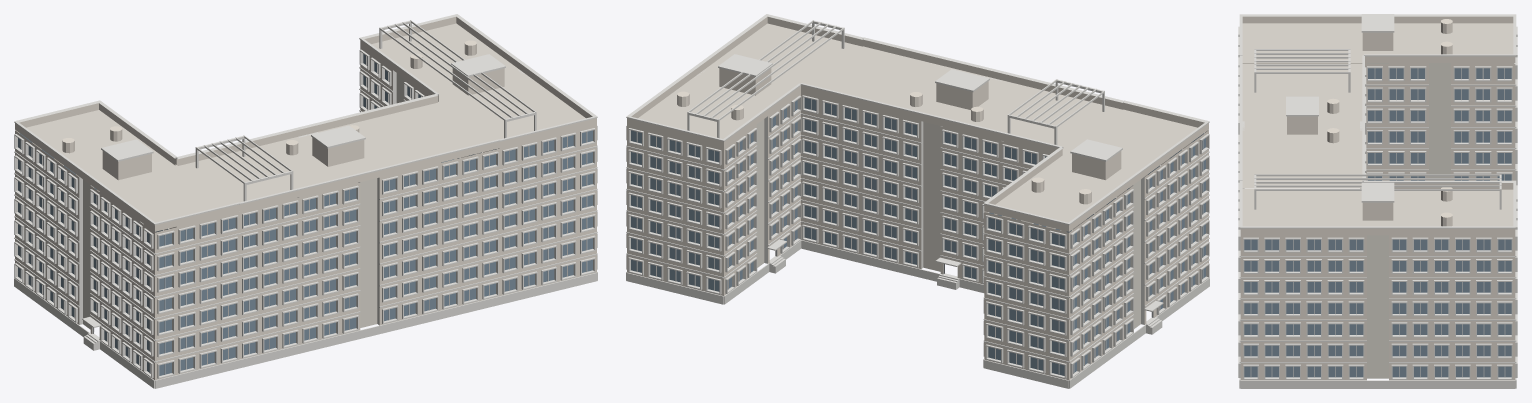
Rendered from Hostel_U.fbx.
The picture shows the model from 3 angles, left to right: view 1: azimuth 30°, elevation 25°; view 2: azimuth 150°, elevation 25°; view 3: azimuth 270°, elevation 25°; orthographic projection.
Parts seen in each view (by area): view 1: Hostel_U; view 2: Hostel_U; view 3: Hostel_U.
Boxes of the visible parts, x1=… form: Hostel_U: x1=14, y1=14, x2=597, y2=388; Hostel_U: x1=626, y1=14, x2=1209, y2=388; Hostel_U: x1=1238, y1=14, x2=1517, y2=388.
Size of the model in its own units: 74.62 by 27.97 by 40.64.
